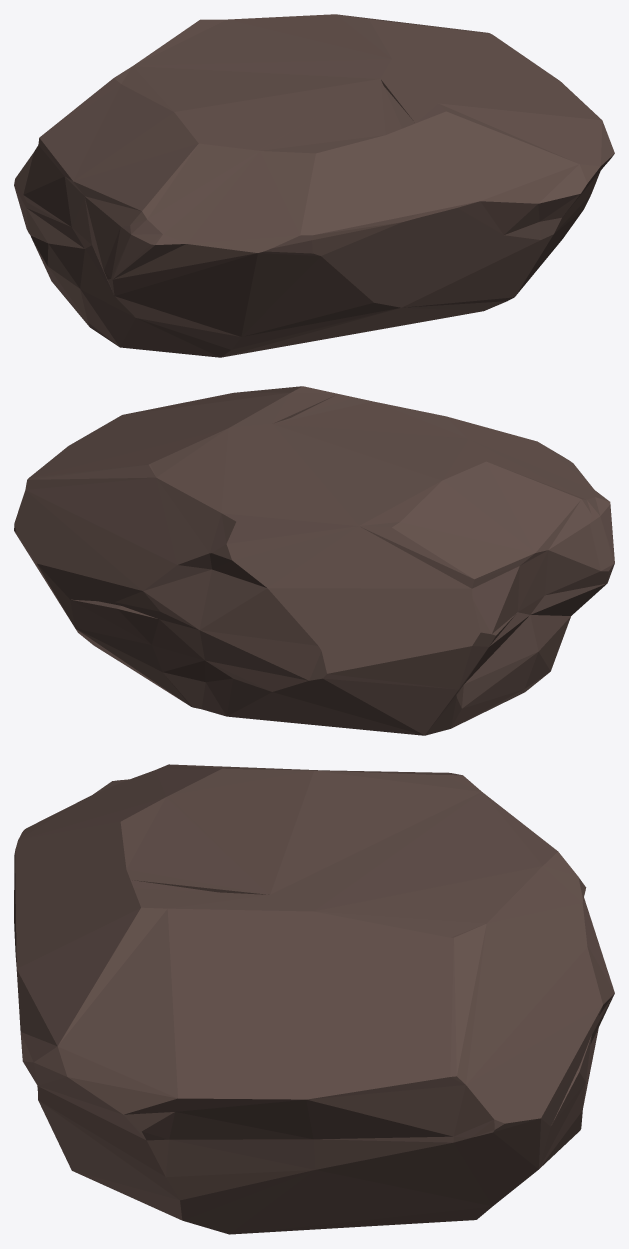
File: Rock 7.fbx
3 views of the same model, one above another, from view 1: azimuth 30°, elevation 25°; view 2: azimuth 150°, elevation 25°; view 3: azimuth 270°, elevation 25° (orthographic). The views are drawn at different scales.
Parts seen in each view (by area): view 1: Cliff shard 7; view 2: Cliff shard 7; view 3: Cliff shard 7.
Part boxes in pixels (x1,y1,x2,y2): Cliff shard 7: [14, 14, 614, 357]; Cliff shard 7: [14, 386, 614, 735]; Cliff shard 7: [14, 764, 614, 1234].
Size of the model in its own units: 1.55 by 0.5743 by 1.21.
